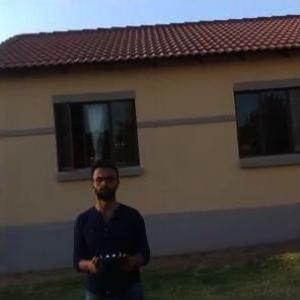follow: (68, 155, 155, 299)
